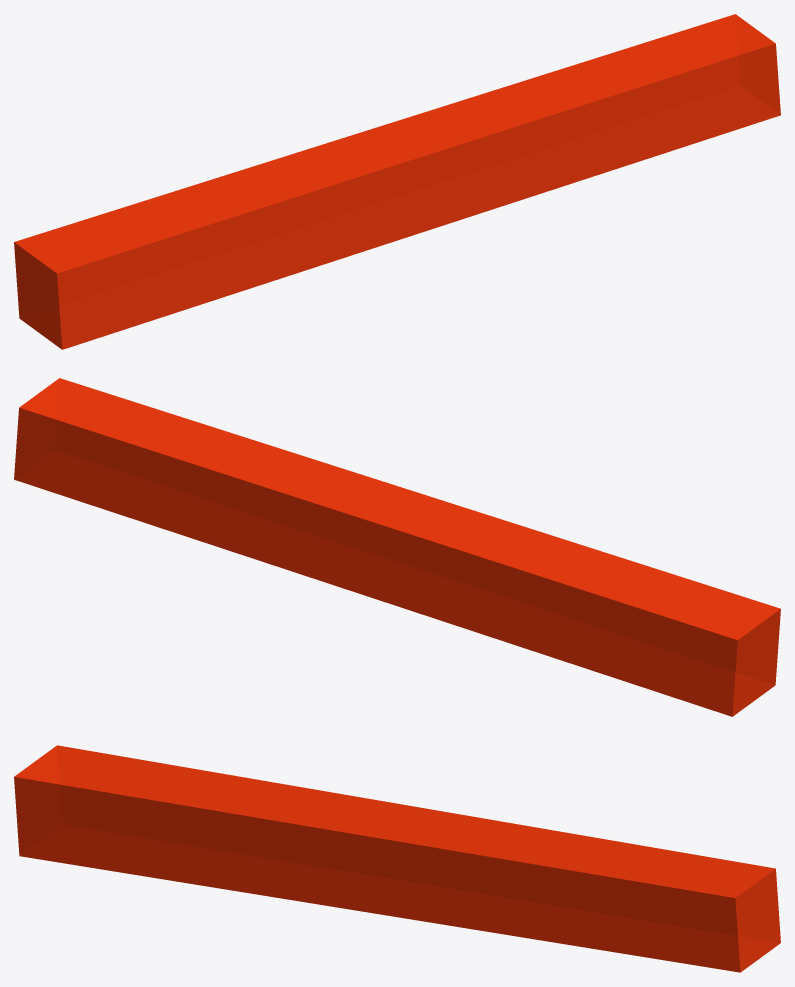
File: Event_420107950_EErechit_22.fbx
3 renders of one model, top to bottom at view 1: azimuth 30°, elevation 25°; view 2: azimuth 150°, elevation 25°; view 3: azimuth 330°, elevation 25°, orthographic.
Parts seen in each view (by area): view 1: Model; view 2: Model; view 3: Model.
Part boxes in pixels (left/top/right/bottom): Model: left=14, top=14, right=780, bottom=349; Model: left=14, top=378, right=780, bottom=716; Model: left=14, top=745, right=780, bottom=972.
Bounding box in the file's own units: 0.7512 × 0.1311 × 0.0773.
